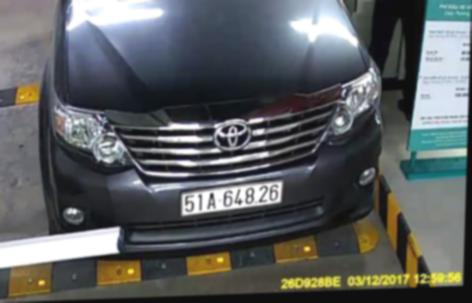License_Plate: (176, 180, 287, 214)
